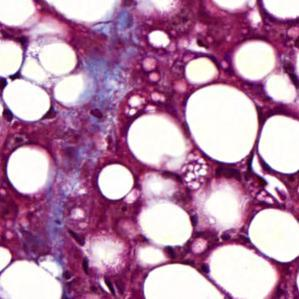steatosis: (184, 84, 260, 166), (99, 163, 137, 201)
